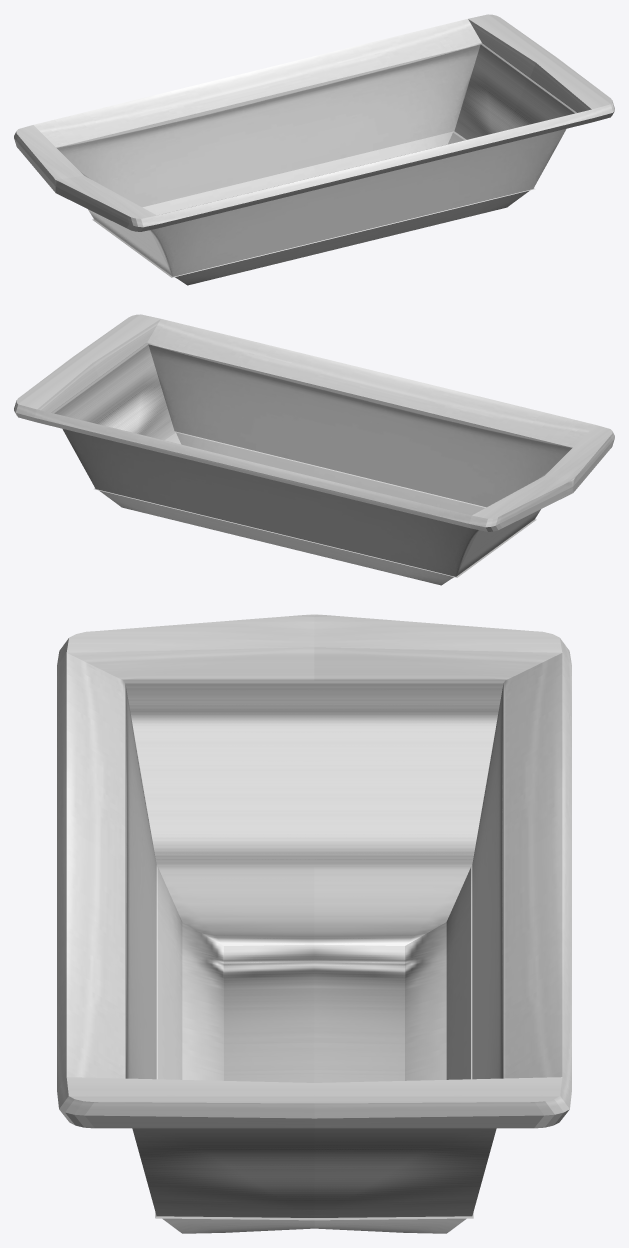
The model's file is Bath.fbx.
The picture shows the model from 3 angles, top to bottom: view 1: azimuth 30°, elevation 25°; view 2: azimuth 150°, elevation 25°; view 3: azimuth 270°, elevation 25°; orthographic projection. The views are drawn at different scales.
Visible parts, largest first — view 1: Plane; view 2: Plane; view 3: Plane.
Boxes of the visible parts, left/top/right/bottom form: Plane: left=14, top=14, right=614, bottom=285; Plane: left=14, top=314, right=614, bottom=585; Plane: left=57, top=614, right=571, bottom=1233.
Bounding box in the file's own units: 2272 × 482 × 1007.
